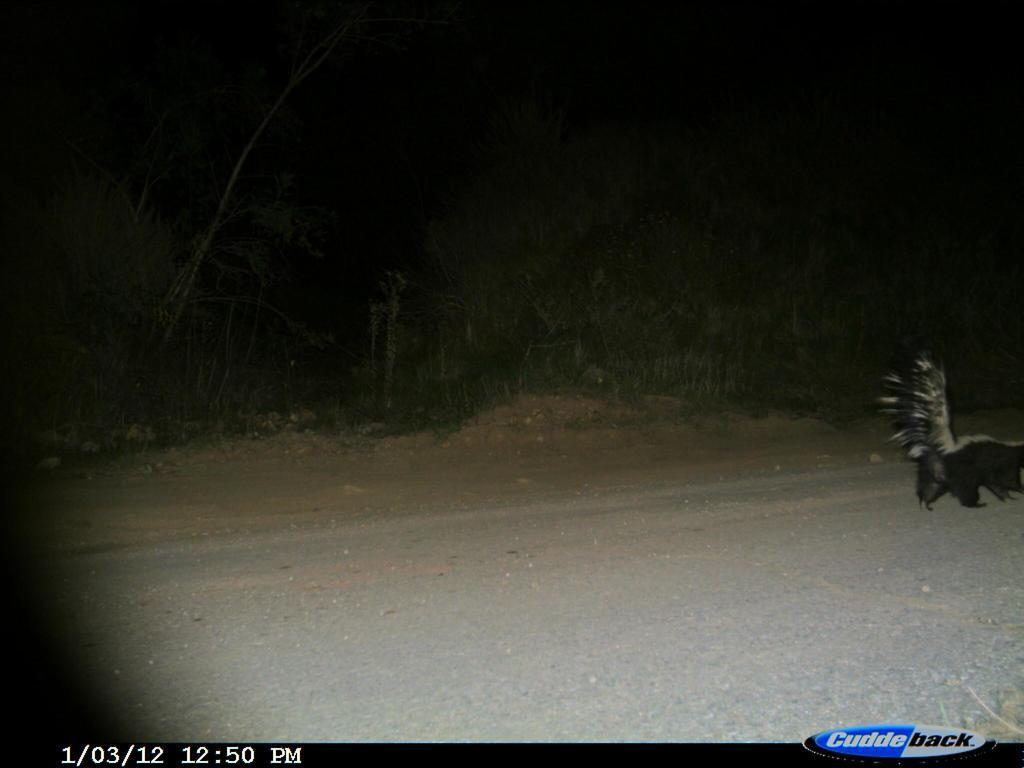skunk: (889, 344, 1022, 519)
